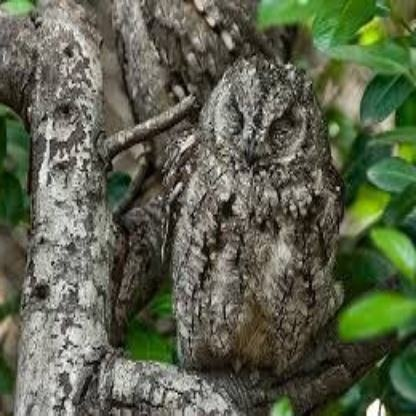Owl: (169, 60, 342, 367)
